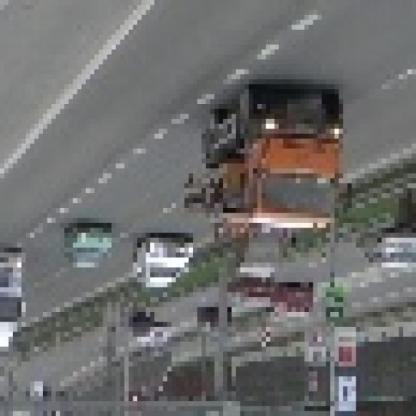truck: (198, 90, 357, 244)
